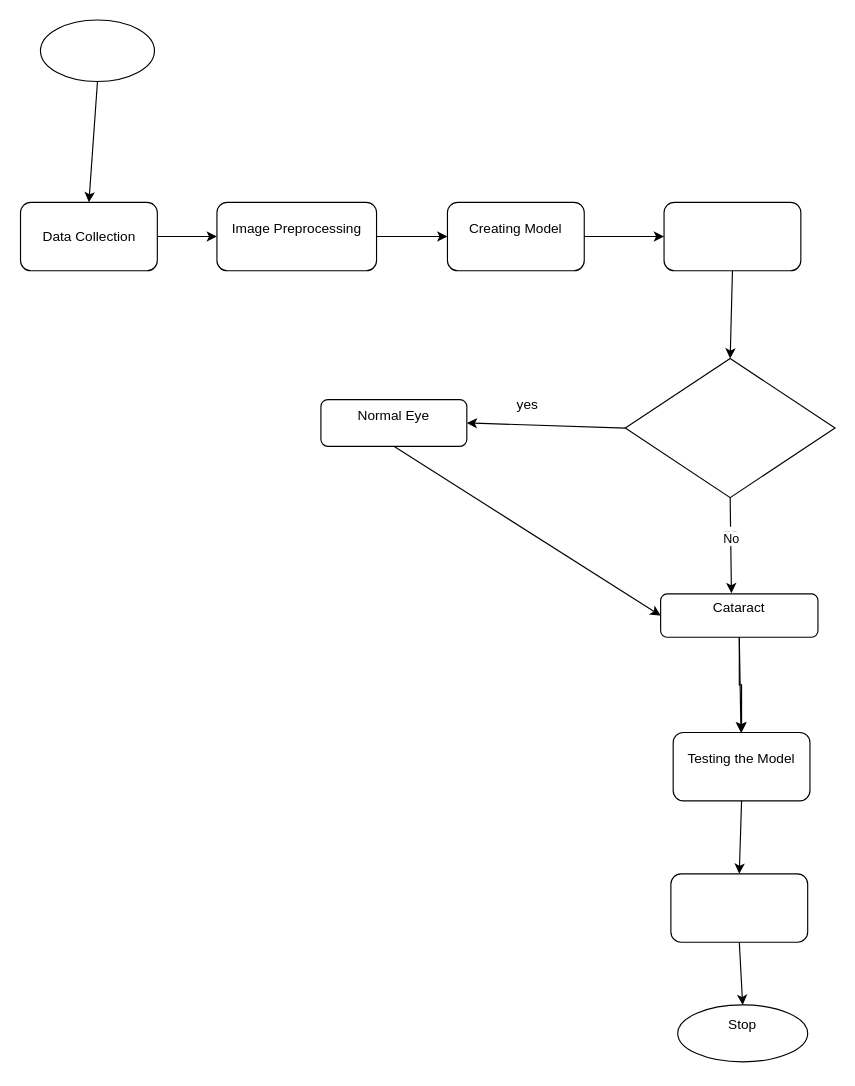
Some shapes in this 855 by 1086 pixel diagram are drawn without their labels. Here are the shapes that lost their labels. From the top down, the box of each, then its label:
(39, 19, 154, 82): start
(663, 201, 801, 271): Training the Model
(624, 357, 835, 498): Classification Using the Trained Model
(670, 873, 808, 942): Predicting for New Data
